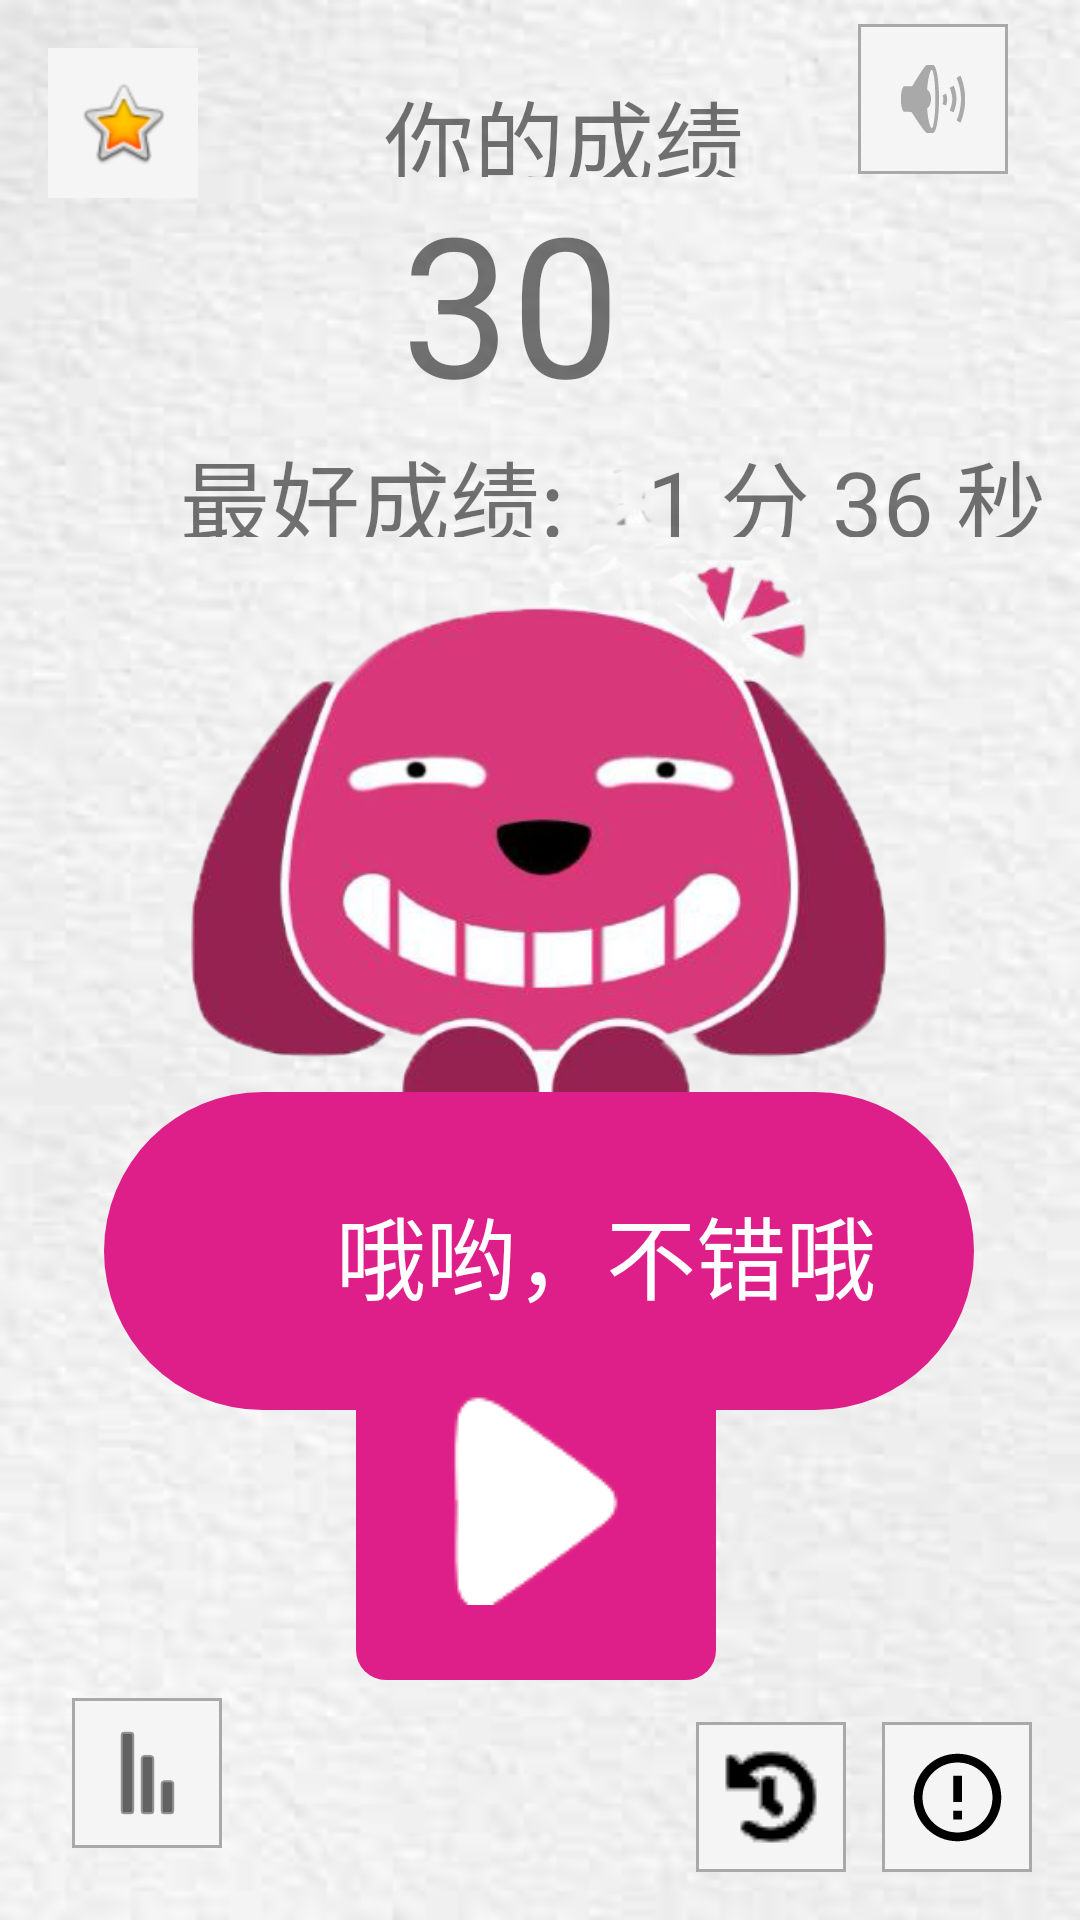

Locate icon controls on the screen. Image size 1080*1920, boxes as (x1, y1, x2, y2).
error: (882, 1722, 1032, 1872)
history: (696, 1722, 846, 1872)
lock silent mode off: (858, 24, 1008, 174)
star on: (48, 48, 198, 198)
start trigon: (454, 1397, 618, 1605)
